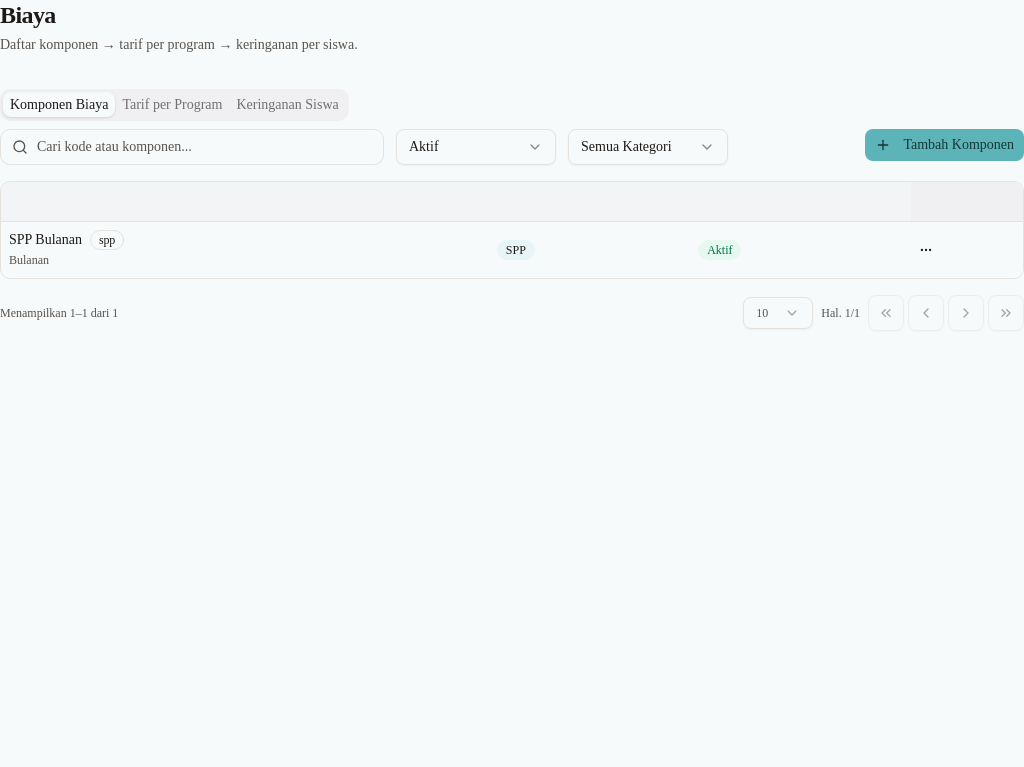
Test: FeesPage › Tarif per Program: Simpan Tarif stays disabled until a tarif changes, then shows the unsaved-changes indicator
The image size is (1024, 767).
Click the tab "Tarif per Program" at (172, 105), box [115,92,230,117]
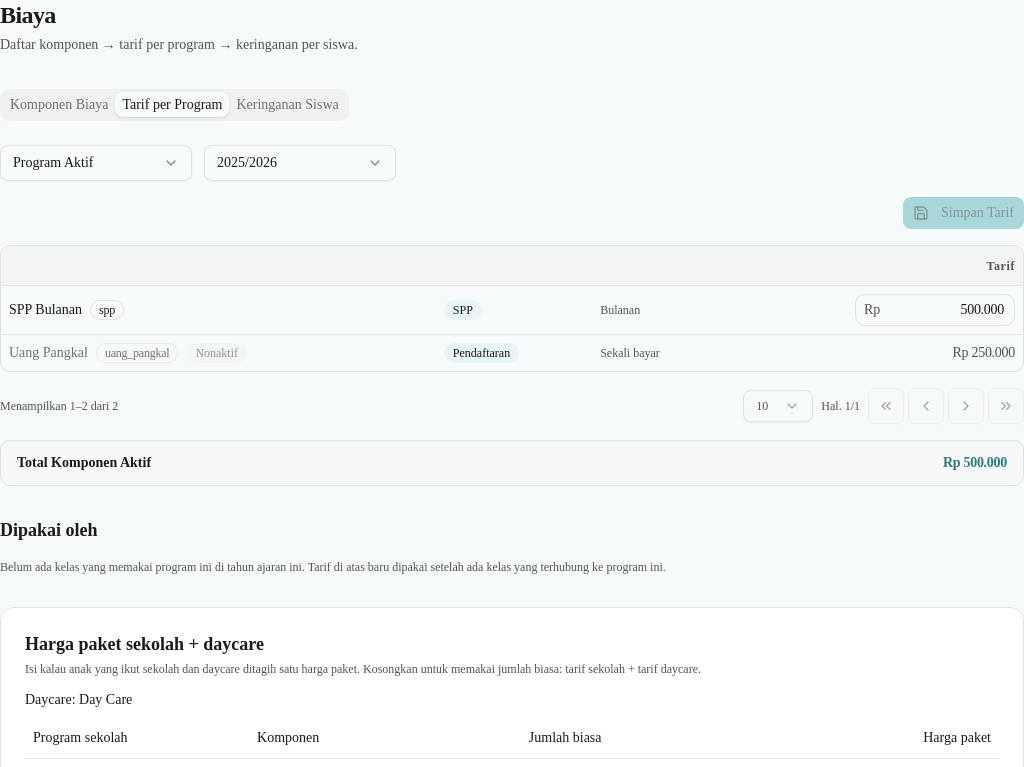
Expected: the text "Ada perubahan belum disimpan" is not shown
Expected: the button "Simpan Tarif" is disabled, [903,197,1023,229]
Replace the text in the field named "Tarif SPP Bulanan" with "600000" at (947, 310), box [880,294,1014,326]
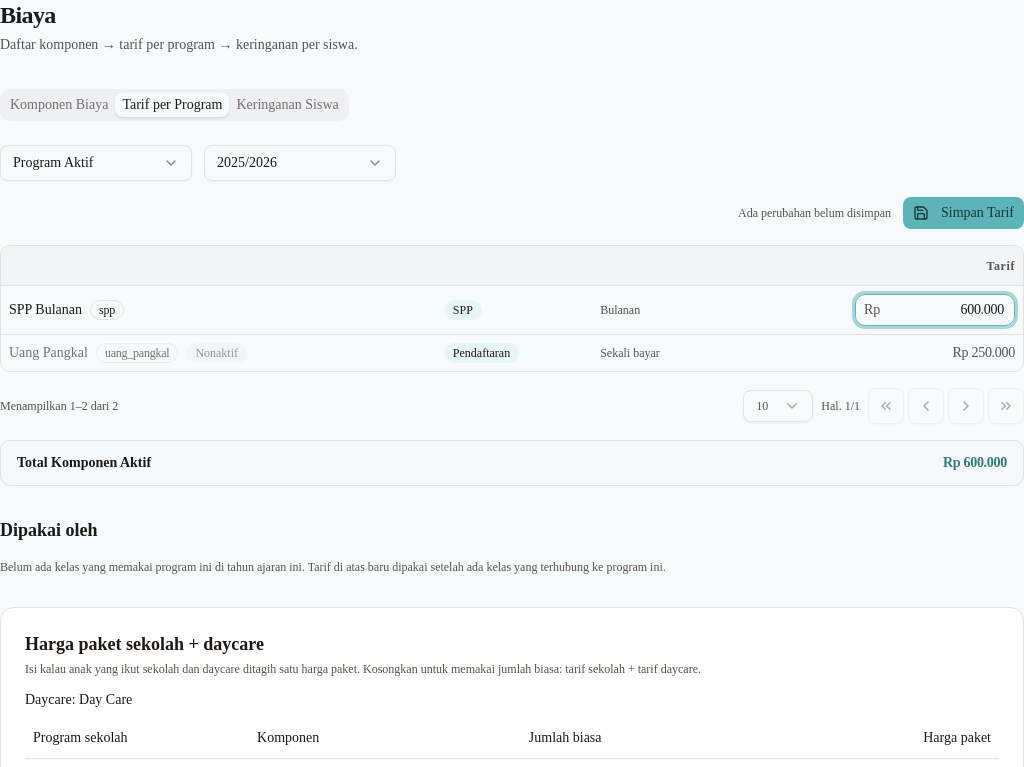
Expected: the text "Ada perubahan belum disimpan" is shown, [738,205,891,221]
Expected: the button "Simpan Tarif" is enabled, [903,197,1023,229]
Expected: the field named "Tarif SPP Bulanan" holds "600.000", [880,294,1014,326]
